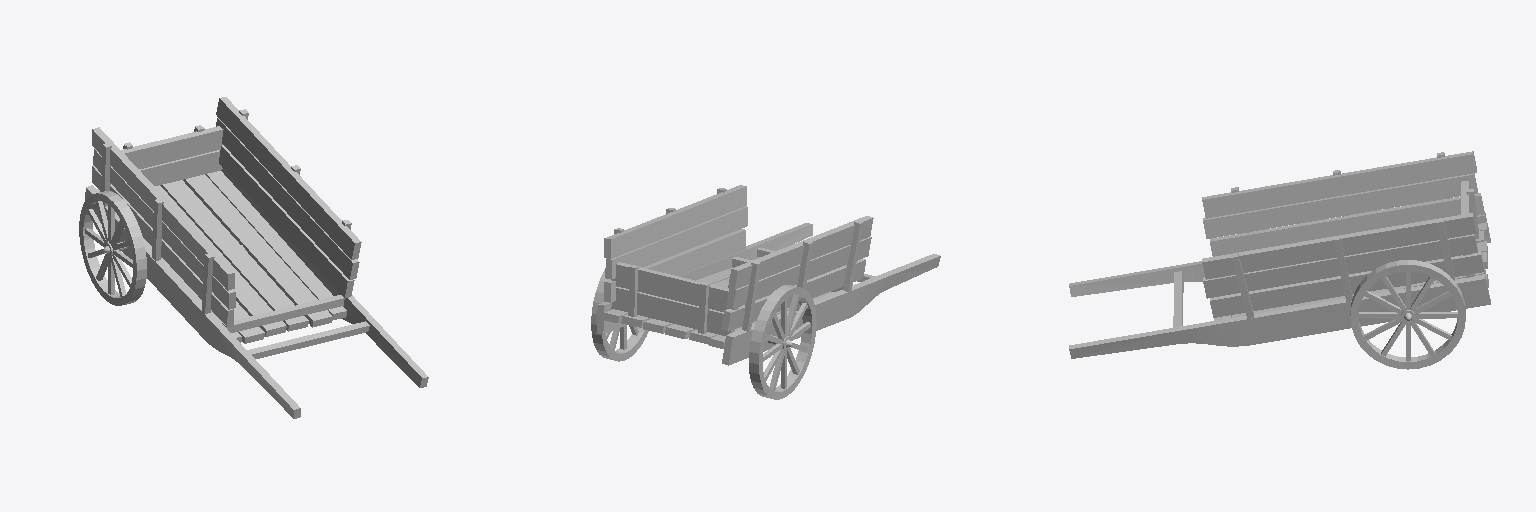
Rendered from Prop_Wagon.obj.
The picture shows the model from 3 angles: view 1: azimuth 30°, elevation 25°; view 2: azimuth 150°, elevation 25°; view 3: azimuth 270°, elevation 25°; orthographic projection.
Parts seen in each view (by area): view 1: Prop_Wagon; view 2: Prop_Wagon; view 3: Prop_Wagon.
Part boxes in pixels (bbox=[...]): Prop_Wagon: bbox=[79, 97, 428, 418]; Prop_Wagon: bbox=[591, 185, 940, 399]; Prop_Wagon: bbox=[1069, 151, 1490, 369].
Bounding box in the file's own units: 1.95 × 1.53 × 4.02.